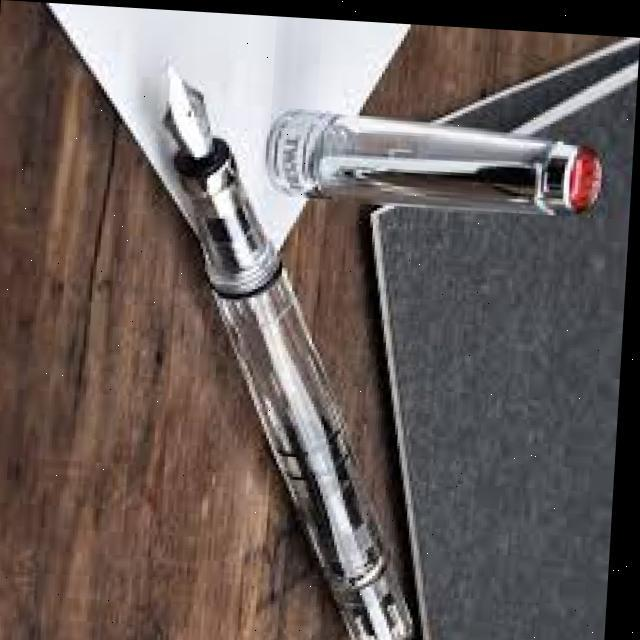pen: (139, 60, 448, 640)
